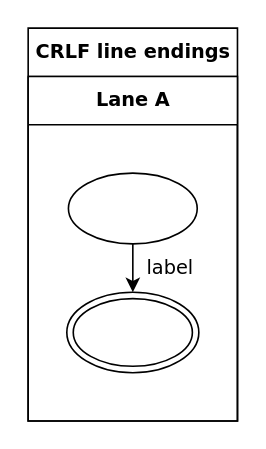
This 266x449 diagram has some shape labels left out. Each missing label, with the centre of its shape:
"Done" goes at [132,332].
"Enter" goes at [132,207].
